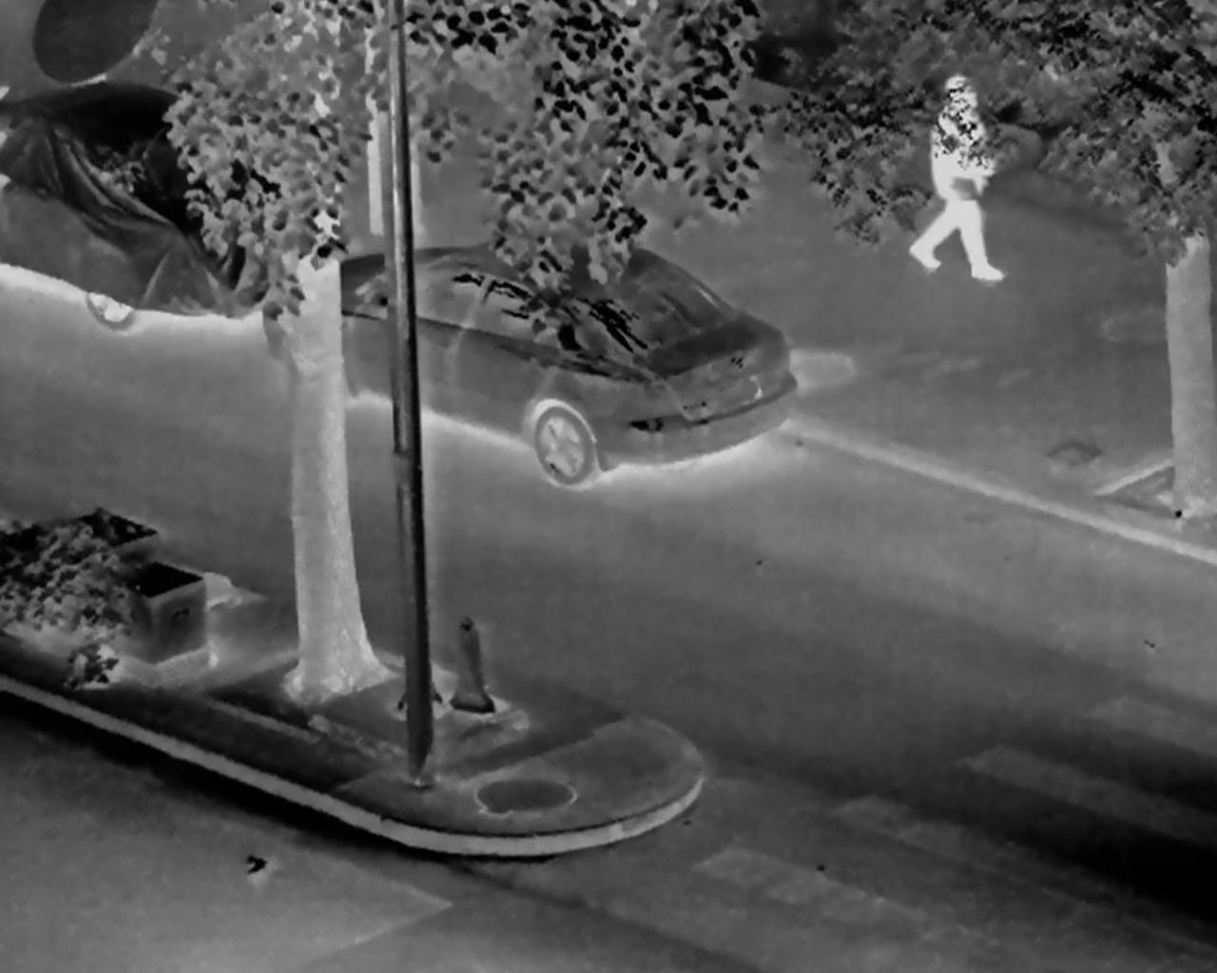person: (907, 77, 1009, 285)
